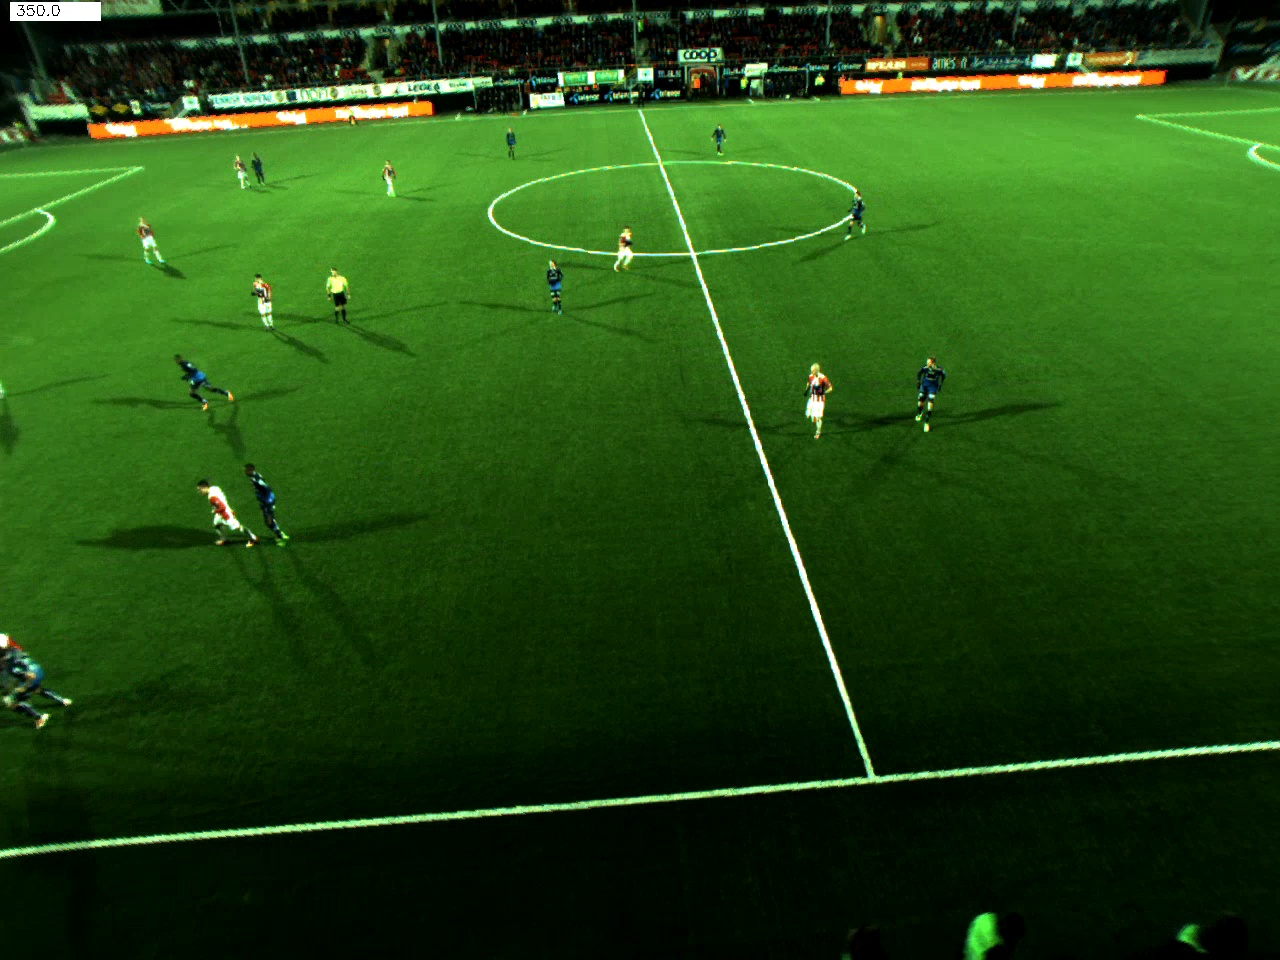blue: (167, 349, 262, 423), (2, 645, 70, 732), (245, 452, 302, 553), (912, 359, 945, 435), (544, 252, 573, 317), (841, 191, 870, 242), (245, 152, 277, 187), (496, 128, 523, 164), (709, 125, 724, 153)
red: (202, 474, 246, 552), (130, 214, 184, 275), (245, 273, 291, 337), (808, 359, 839, 456), (609, 220, 649, 288), (376, 145, 405, 207), (221, 152, 249, 196)
yellow: (316, 260, 352, 321)
